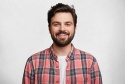male: (46, 3, 81, 50)
